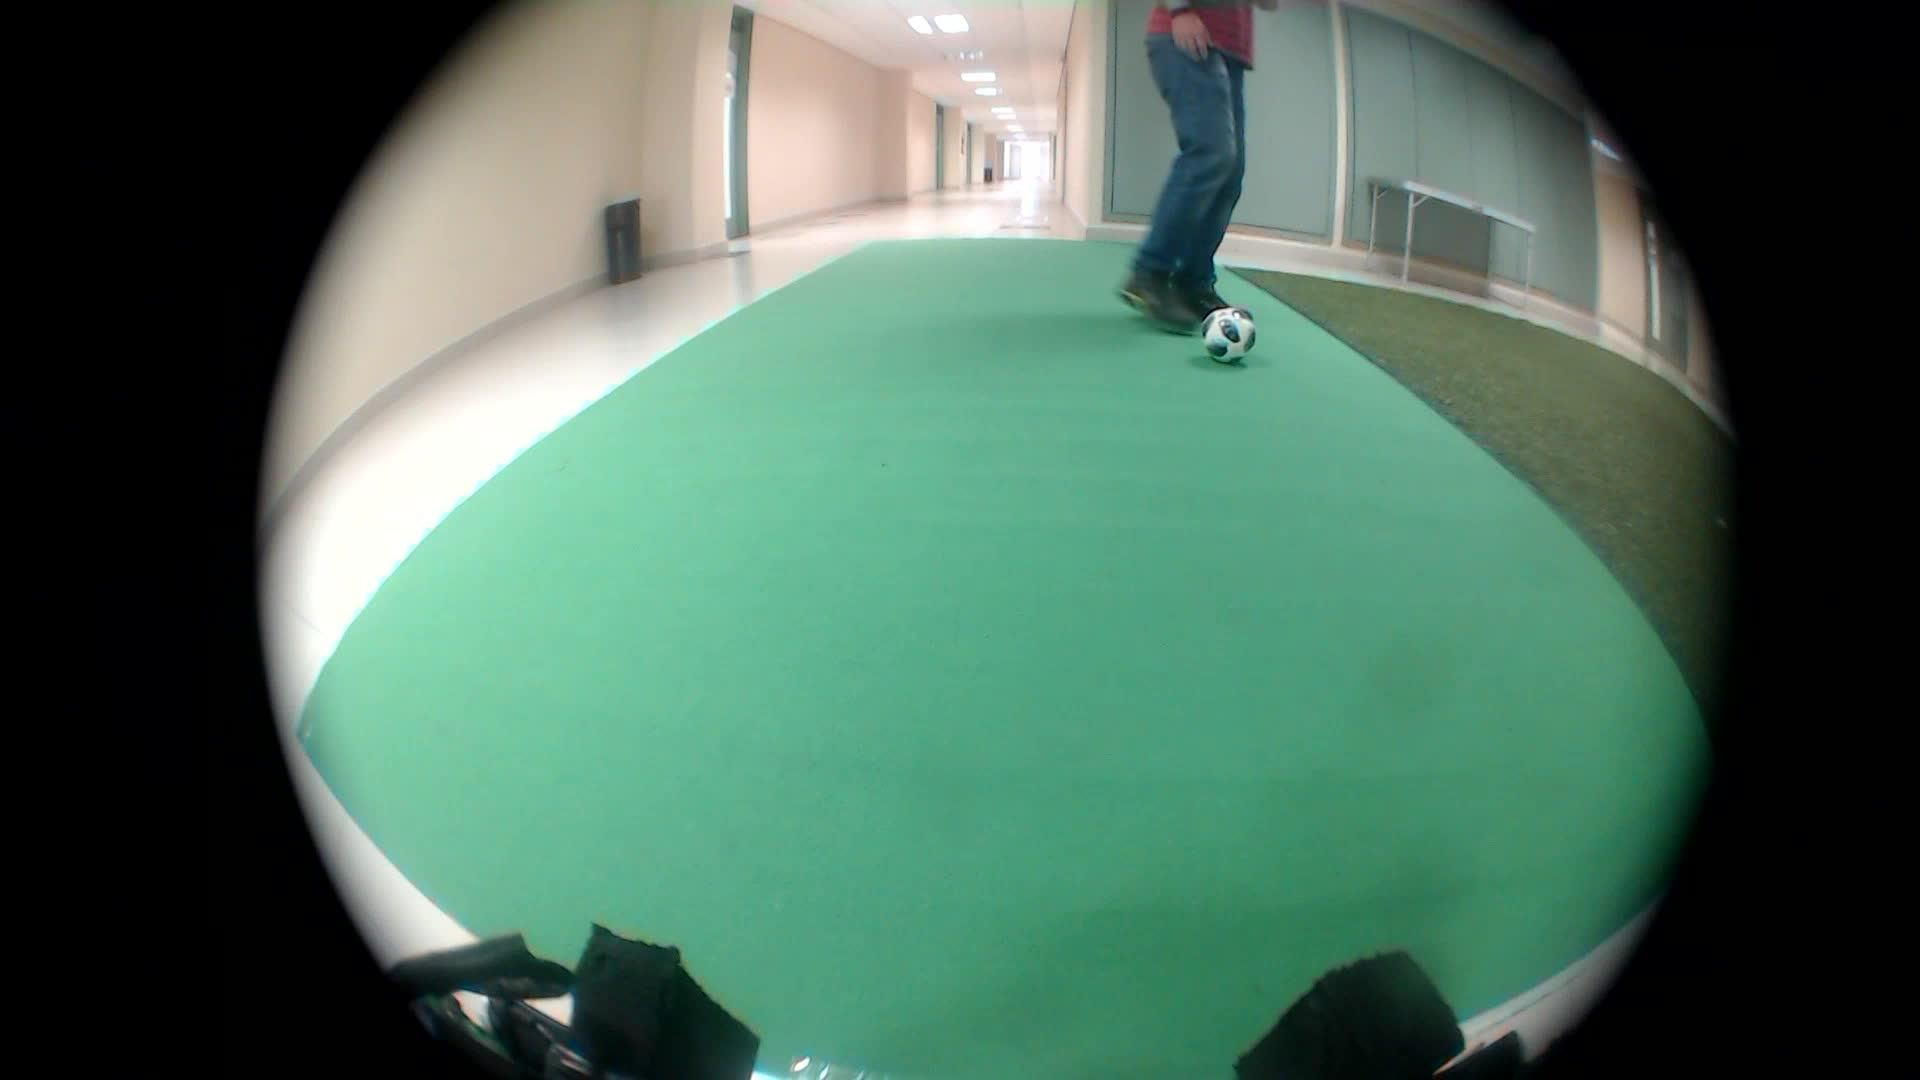ball: (1191, 302, 1271, 371)
